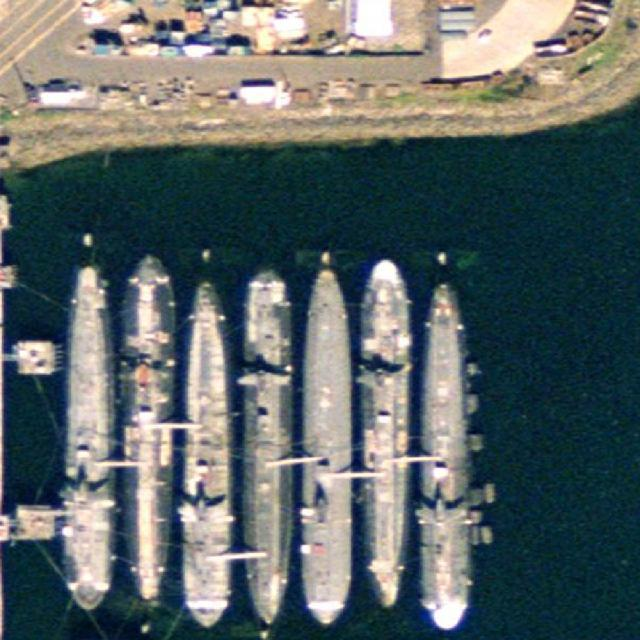Submarine: (63, 264, 114, 612), (180, 281, 231, 628), (300, 266, 349, 625), (420, 275, 469, 634), (122, 252, 172, 599), (361, 257, 409, 616), (242, 268, 290, 626)
